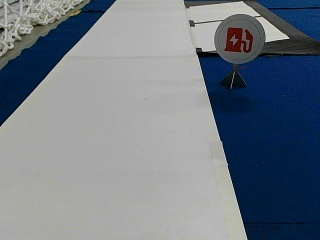battery: (214, 13, 265, 65)
